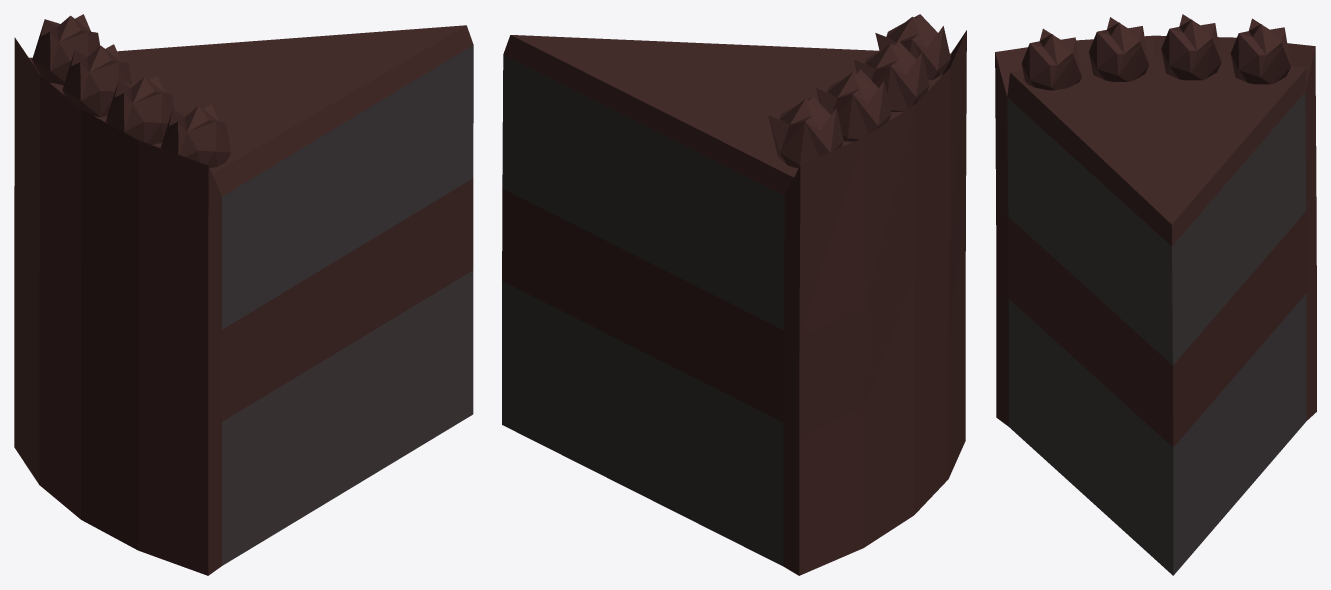
Rendered from cakeslice.obj.
3 renders of one model, left to right at view 1: azimuth 30°, elevation 25°; view 2: azimuth 150°, elevation 25°; view 3: azimuth 270°, elevation 25°, orthographic. The views are drawn at different scales.
Visible parts, largest first — view 1: Cake8, Decoration8; view 2: Cake8, Decoration8; view 3: Cake8, Decoration8.
Boxes of the visible parts, bbox=[...] form: Cake8: bbox=[14, 25, 473, 575]; Decoration8: bbox=[32, 14, 230, 168]; Cake8: bbox=[502, 30, 966, 575]; Decoration8: bbox=[768, 14, 950, 168]; Cake8: bbox=[995, 35, 1316, 575]; Decoration8: bbox=[1021, 14, 1290, 90].
Size of the model in its own units: 1.06 by 1.13 by 0.8259.
